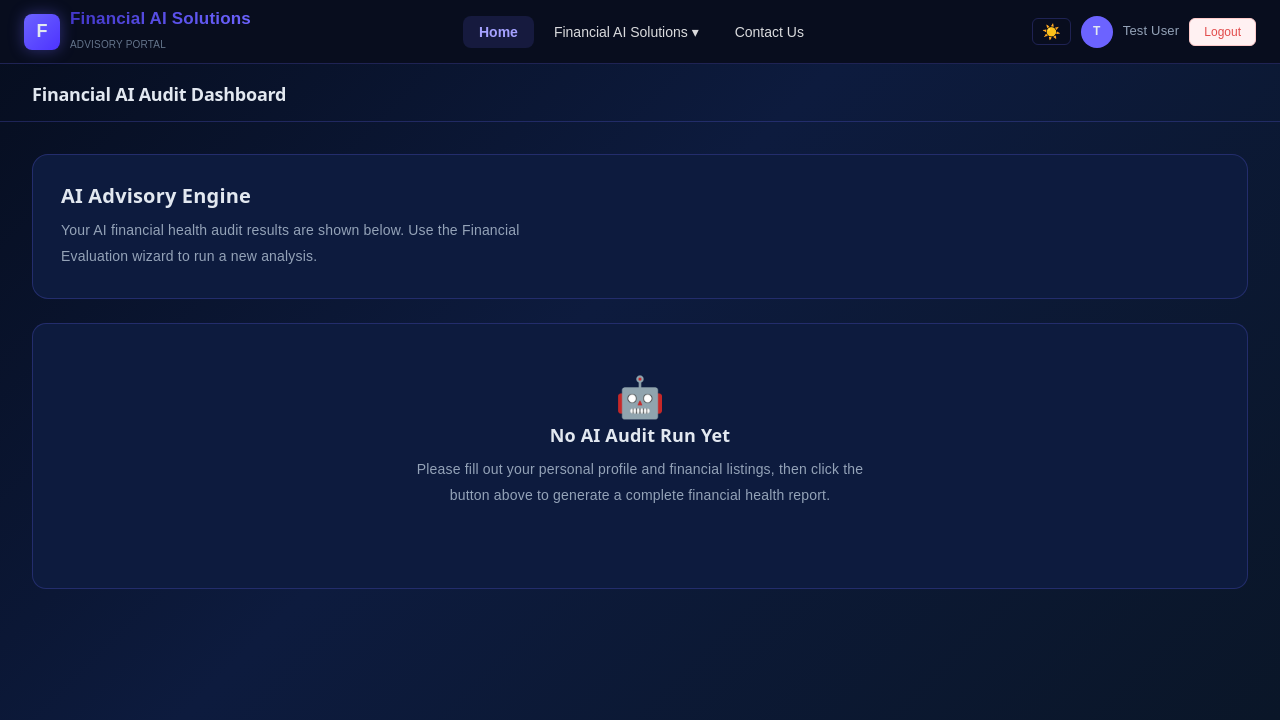
Home – Financial AI Solutions dropdown › clicking Your Stocks Analyzer opens stocks placeholder
The width and height of the screenshot is (1280, 720).
Hover over the element "Financial AI Solutions ▾": (626, 32) top-left (538, 16), bottom-right (715, 48)
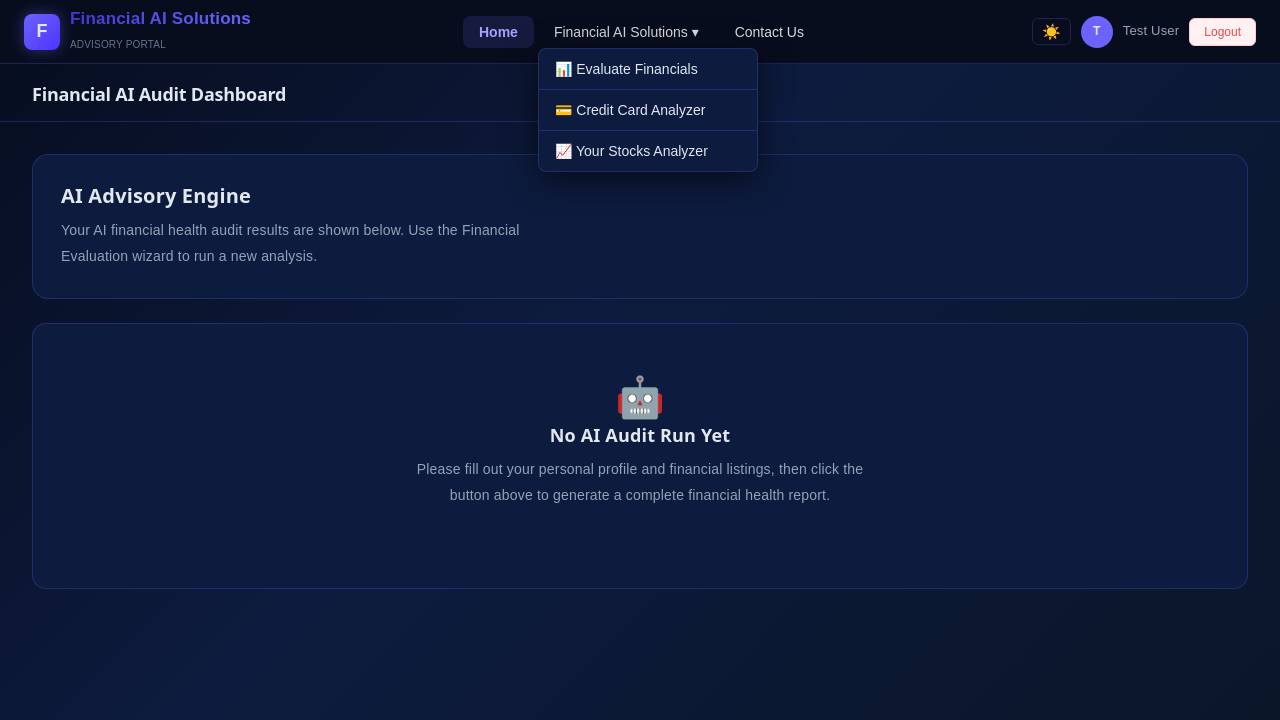
Click the button "📈 Your Stocks Analyzer": (648, 150) top-left (539, 130), bottom-right (757, 170)
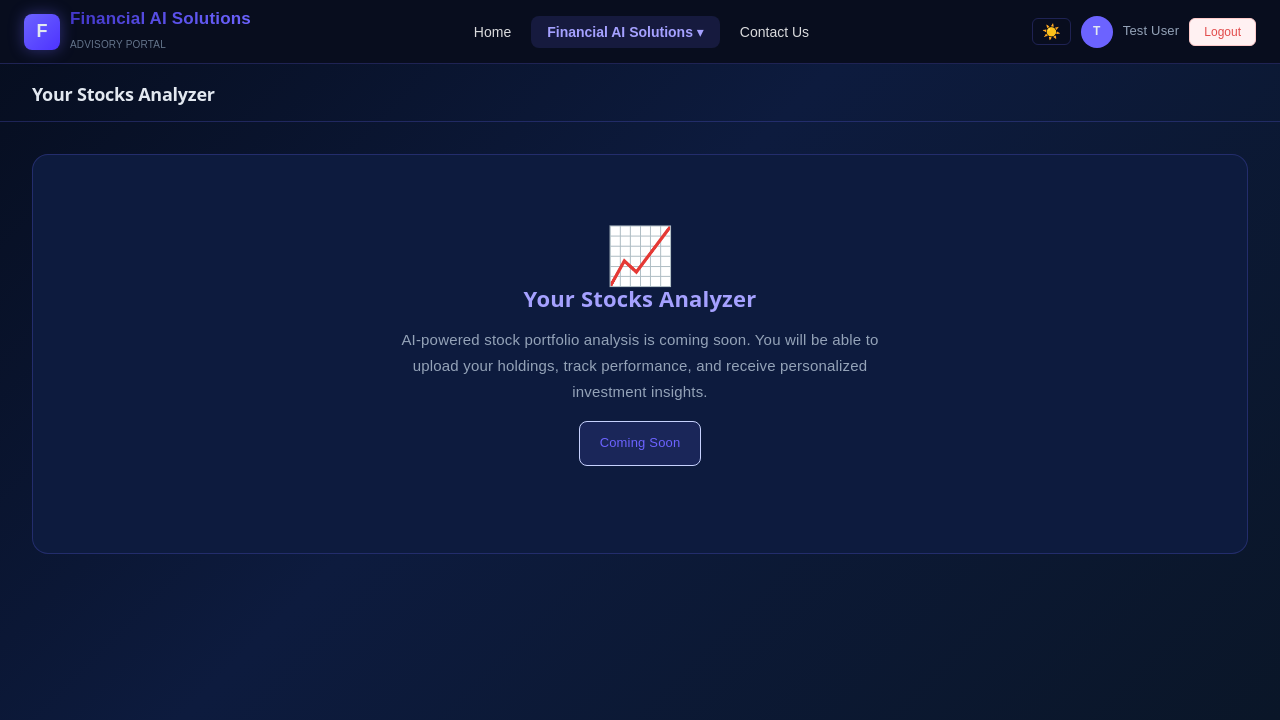
Now the text "Coming Soon" is shown, box top-left (579, 421), bottom-right (701, 466)
